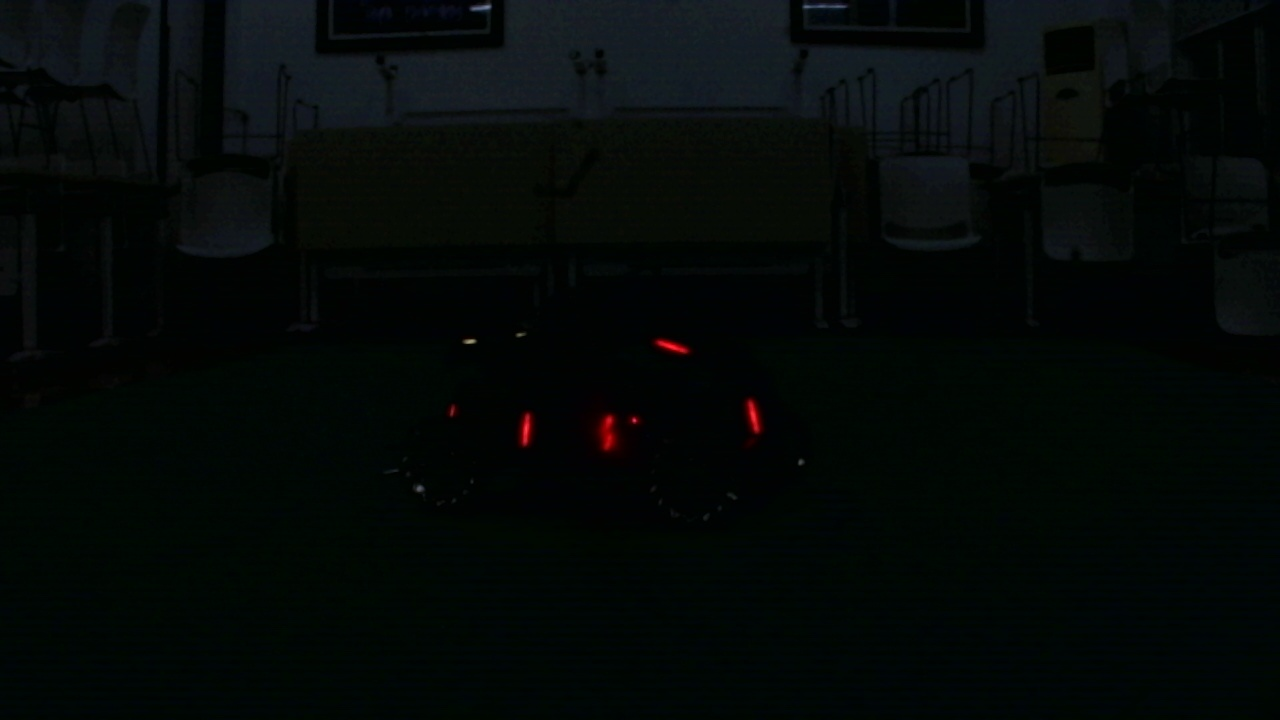lamp: (741, 398, 763, 434), (602, 408, 616, 454), (519, 409, 531, 445)
pair1: (521, 414, 616, 453)
